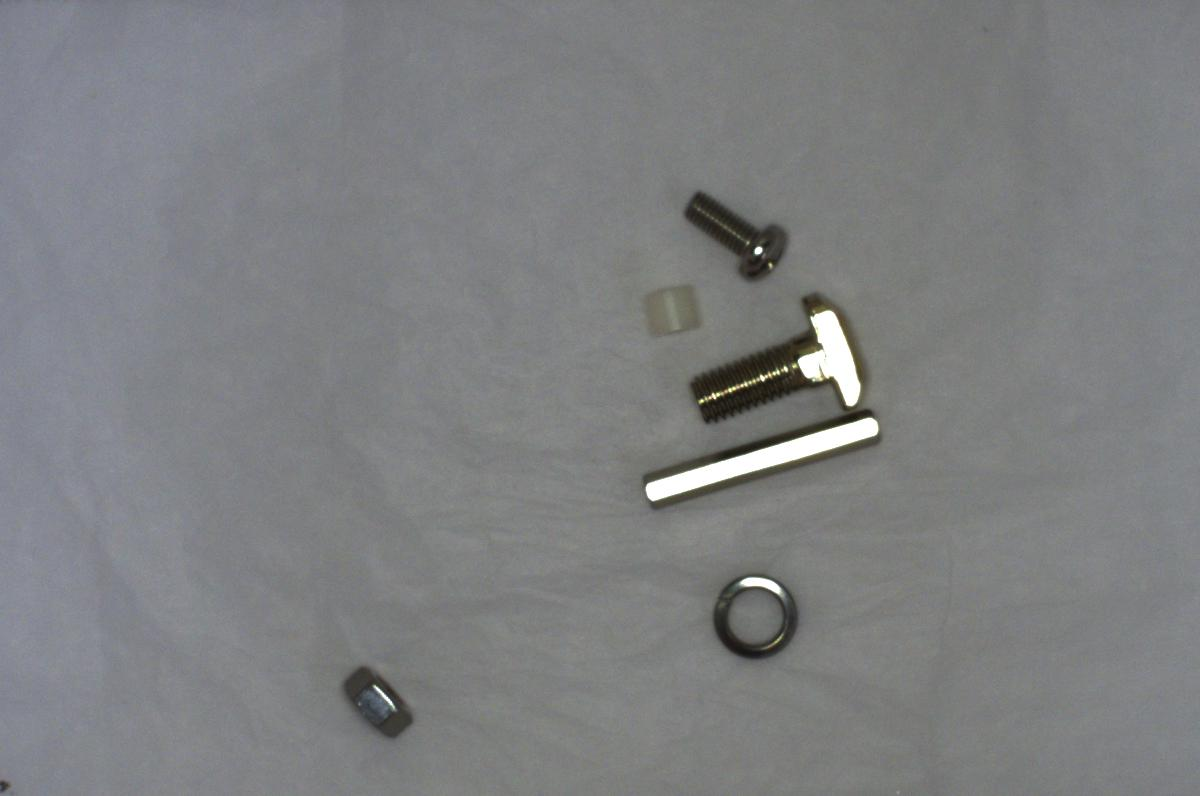Double hexagonal column: (635, 408, 888, 515)
Hexagon nut: (334, 654, 419, 741)
Plastic cushion pillar: (632, 273, 715, 345)
Round head screw: (679, 180, 792, 285)
Spring washer: (703, 564, 802, 664)
T-shaped screw: (678, 291, 882, 427)
